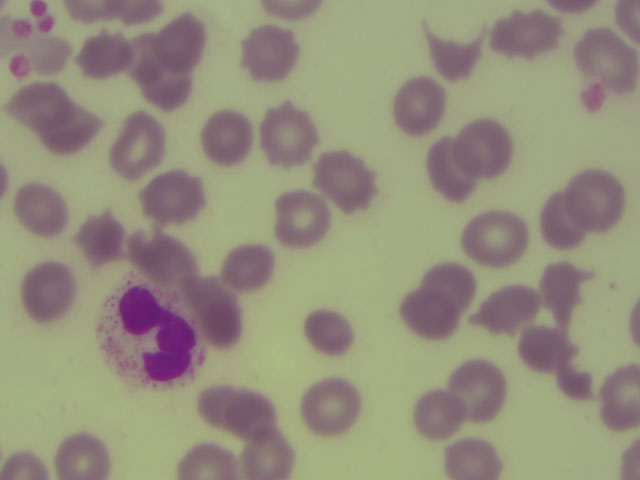Platelets: (585, 84, 609, 114), (7, 55, 34, 77), (11, 19, 34, 40), (41, 17, 56, 34), (31, 2, 48, 15)
RBC: (12, 90, 96, 156), (185, 270, 251, 346), (308, 153, 385, 217), (395, 274, 460, 343), (413, 24, 486, 80), (563, 167, 624, 233), (449, 351, 509, 417), (468, 206, 530, 265), (575, 28, 636, 87), (110, 113, 169, 173), (283, 188, 338, 252), (239, 28, 300, 83), (306, 383, 368, 437), (539, 262, 590, 326), (137, 175, 208, 220), (266, 103, 321, 161), (429, 138, 477, 202), (29, 263, 79, 324), (466, 117, 513, 181), (133, 232, 193, 282), (301, 305, 358, 357), (498, 17, 561, 64), (411, 383, 466, 435), (428, 251, 477, 308), (204, 112, 256, 165), (539, 192, 588, 248), (142, 61, 199, 108), (482, 284, 540, 330), (400, 76, 444, 136), (18, 188, 72, 236), (179, 441, 244, 480), (159, 20, 208, 70), (607, 363, 640, 437), (454, 438, 511, 480), (515, 320, 569, 364), (77, 211, 121, 265), (59, 433, 109, 480), (250, 431, 296, 480), (221, 247, 273, 290), (227, 388, 275, 431), (88, 36, 130, 78), (6, 441, 49, 480), (191, 382, 229, 424), (557, 363, 594, 402), (35, 38, 72, 74), (612, 1, 640, 44), (264, 1, 324, 19), (108, 1, 162, 21), (64, 2, 104, 25), (617, 440, 640, 478), (550, 1, 599, 15), (628, 304, 640, 343)
WBC: (95, 278, 208, 385)
